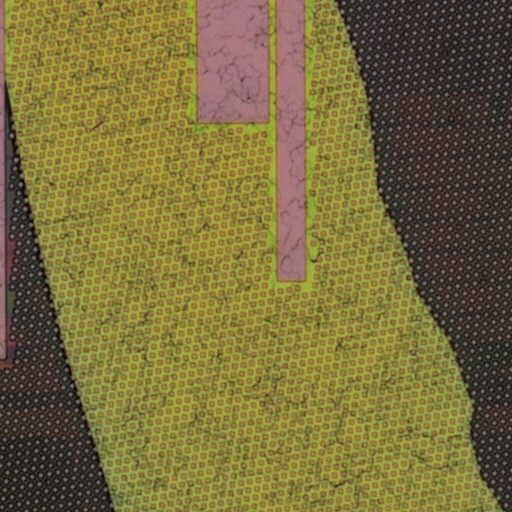BLOCK ETCH: (2, 1, 511, 512)
